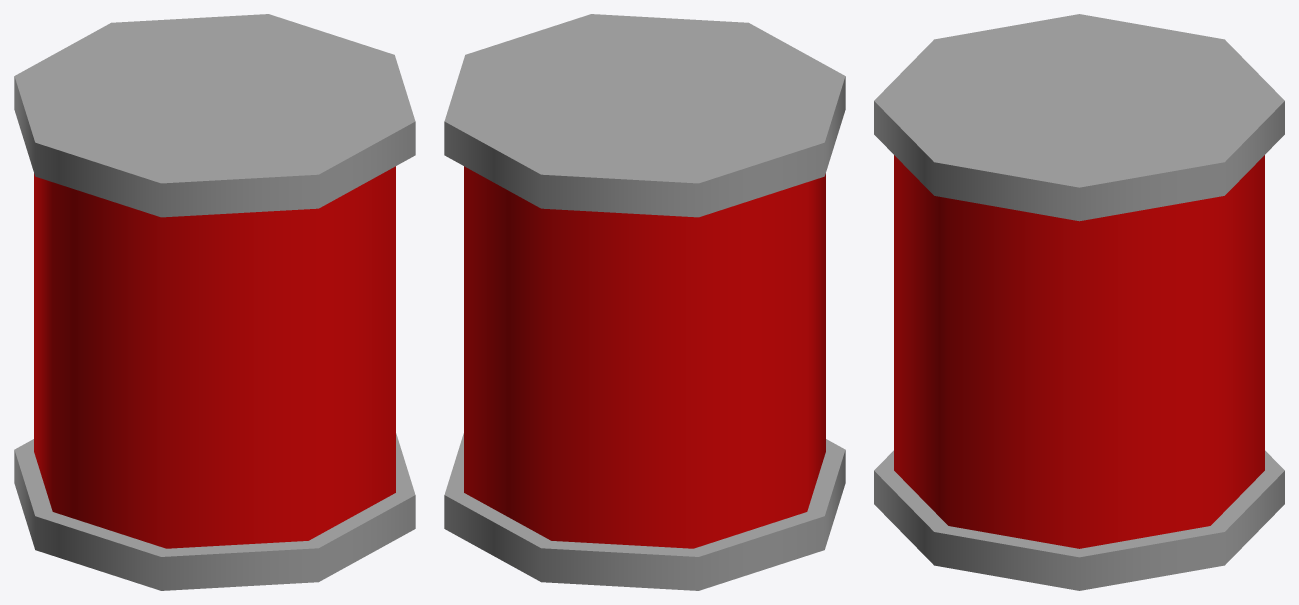
The model's file is Embio_Jar.fbx.
3 views of the same model, side by side, from view 1: azimuth 30°, elevation 25°; view 2: azimuth 150°, elevation 25°; view 3: azimuth 270°, elevation 25° (orthographic).
Visible parts, largest first — view 1: pCylinder3, pCylinder5, pCylinder6; view 2: pCylinder3, pCylinder5, pCylinder6; view 3: pCylinder3, pCylinder5, pCylinder6.
Part boxes in pixels (box(x1,y1,x2,y2)): pCylinder3: box(34, 166, 395, 548); pCylinder5: box(14, 14, 415, 217); pCylinder6: box(14, 433, 415, 590); pCylinder3: box(464, 166, 825, 548); pCylinder5: box(444, 14, 845, 217); pCylinder6: box(444, 433, 845, 590); pCylinder3: box(894, 155, 1264, 548); pCylinder5: box(874, 14, 1284, 221); pCylinder6: box(874, 450, 1284, 590).
Bounding box in the file's own units: 44.32 × 48 × 44.32.
